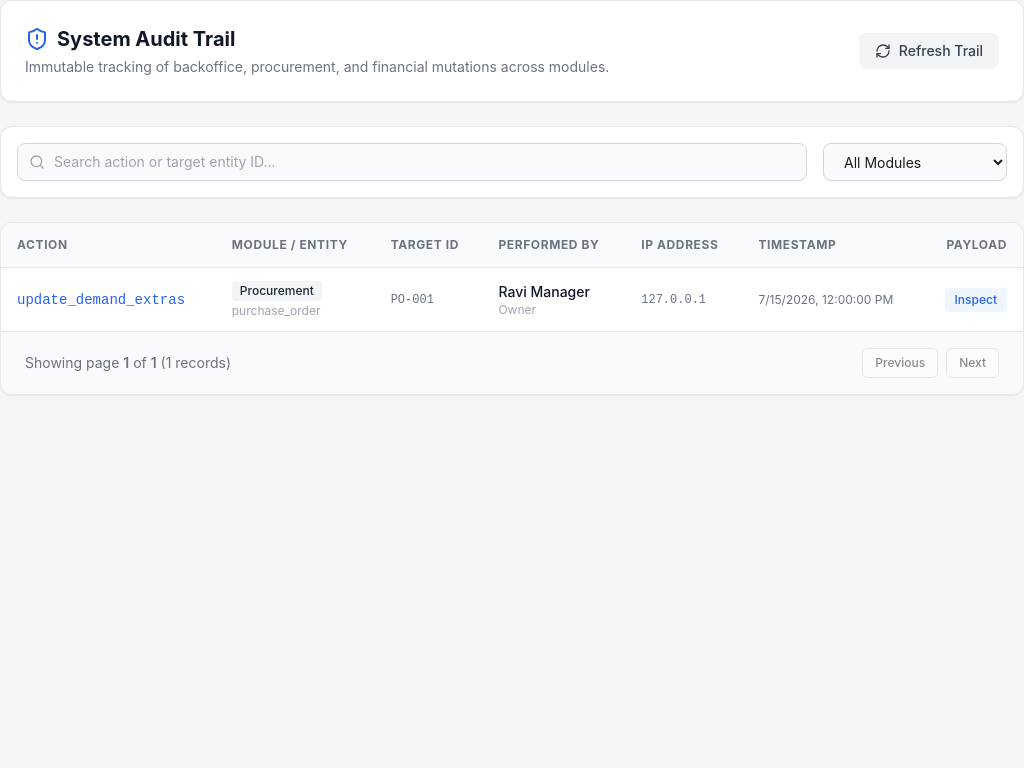
Test case: AuditLogsView › opens mutation details modal when Inspect button is clicked
What coordinates should you click on to do the following:
click the button "Inspect"
I would click on:
 (976, 300)
Its box is 945,288 -> 1007,312.
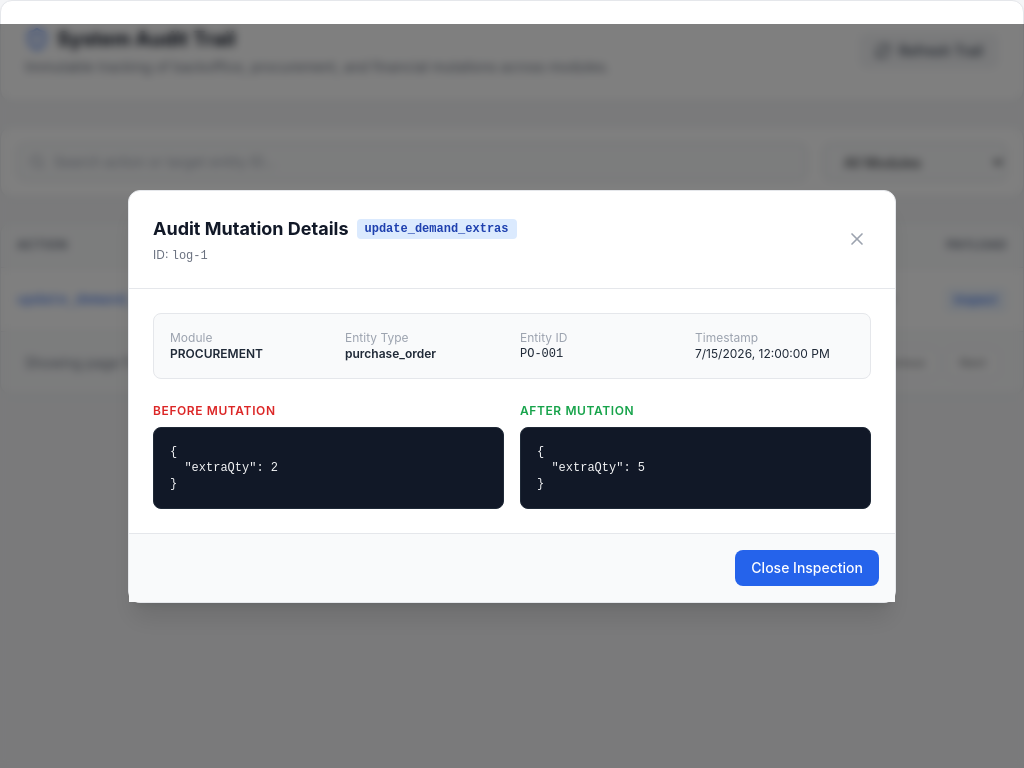
Expected: the heading "Audit Mutation Details" is shown, 153,218 -> 348,238
Expected: the heading "Before Mutation" is shown, 153,402 -> 276,418
Expected: the heading "After Mutation" is shown, 520,402 -> 634,418
